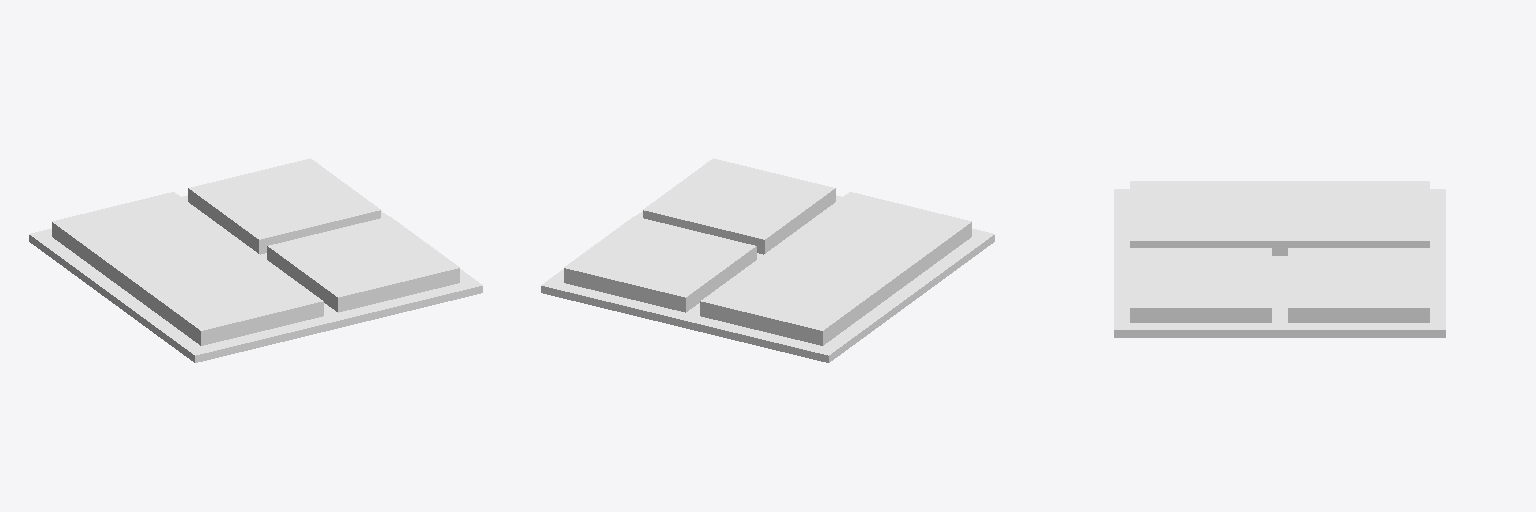
The model's file is properlySizeEdgeTileAlternate.obj.
The picture shows the model from 3 angles: view 1: azimuth 30°, elevation 25°; view 2: azimuth 150°, elevation 25°; view 3: azimuth 270°, elevation 25°; orthographic projection.
Parts seen in each view (by area): view 1: object 1; view 2: object 1; view 3: object 1.
Boxes of the visible parts, <box> form: object 1: <box>29,158,482,362</box>; object 1: <box>541,158,994,362</box>; object 1: <box>1114,181,1445,337</box>.
Bounding box in the file's own units: 4 × 0.3 × 4.